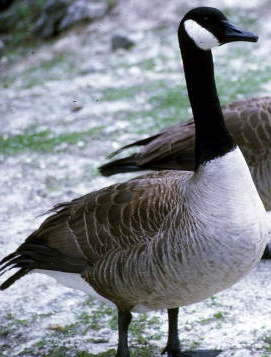goose: (1, 3, 271, 349)
